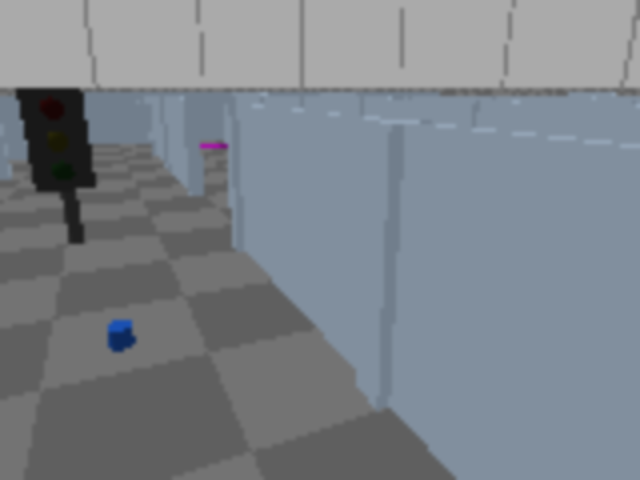puck: (106, 320, 134, 351)
traffic_light: (14, 79, 104, 255)
